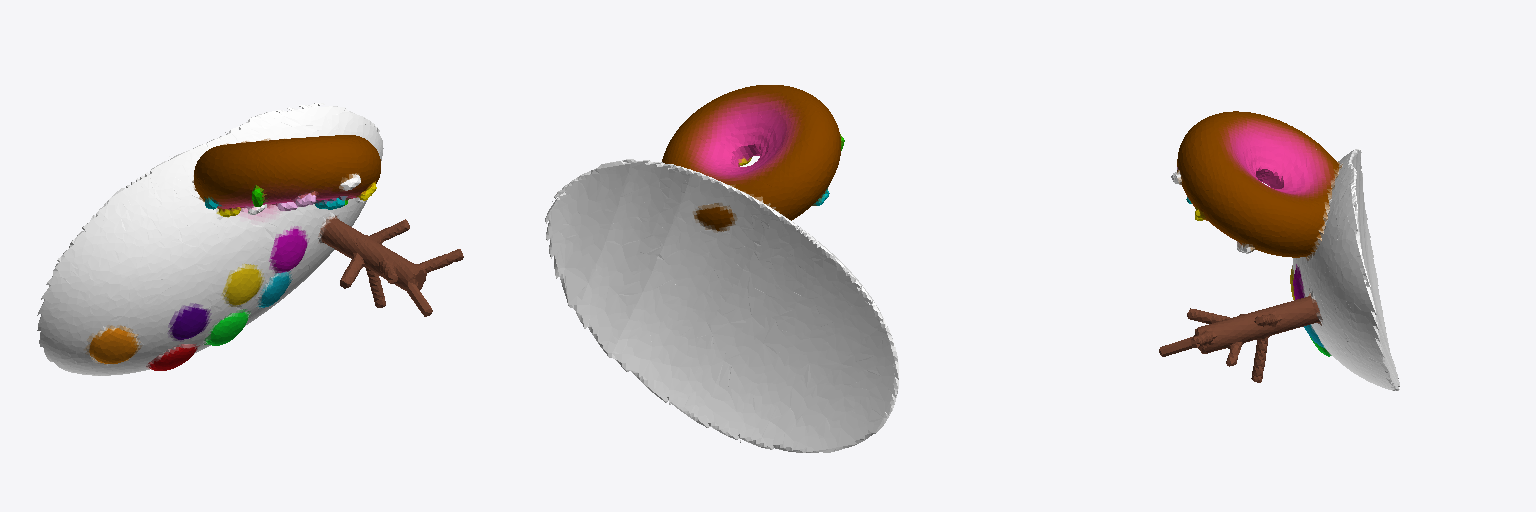
3 renders of one model, left to right at view 1: azimuth 30°, elevation 25°; view 2: azimuth 150°, elevation 25°; view 3: azimuth 270°, elevation 25°, orthographic.
Parts seen in each view (by area): view 1: Layer_1; view 2: Layer_1; view 3: Layer_1.
Boxes of the visible parts, x1,y1,x2,y2 form: Layer_1: [37, 103, 463, 375]; Layer_1: [545, 85, 898, 452]; Layer_1: [1159, 111, 1399, 390].
Size of the model in its own units: 0.815 by 0.6107 by 0.4866.
Materials: 1 (1 with a texture image).